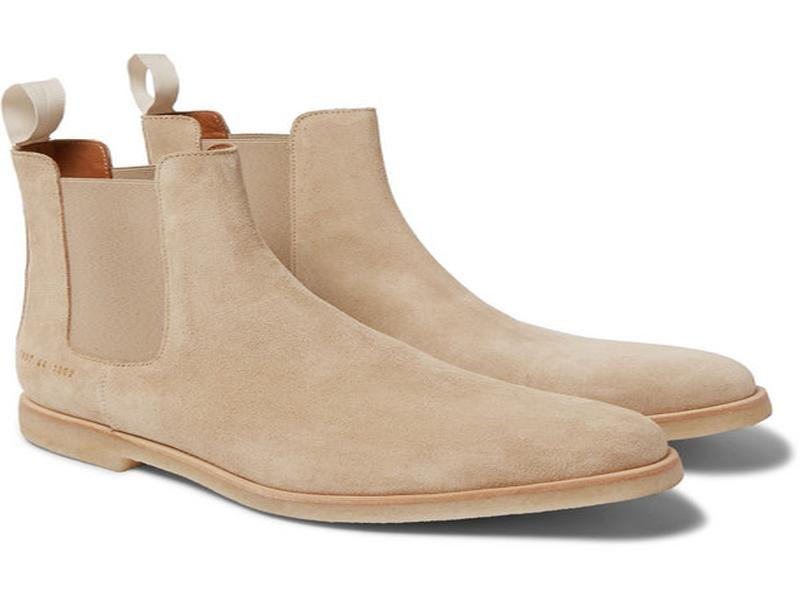shoes_men_chelsea_chelseaboots_suede_none_none_beige_none: (4, 114, 699, 541), (157, 112, 767, 442)
